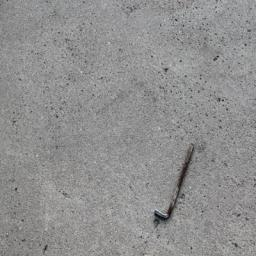FOD: (153, 142, 197, 222)
